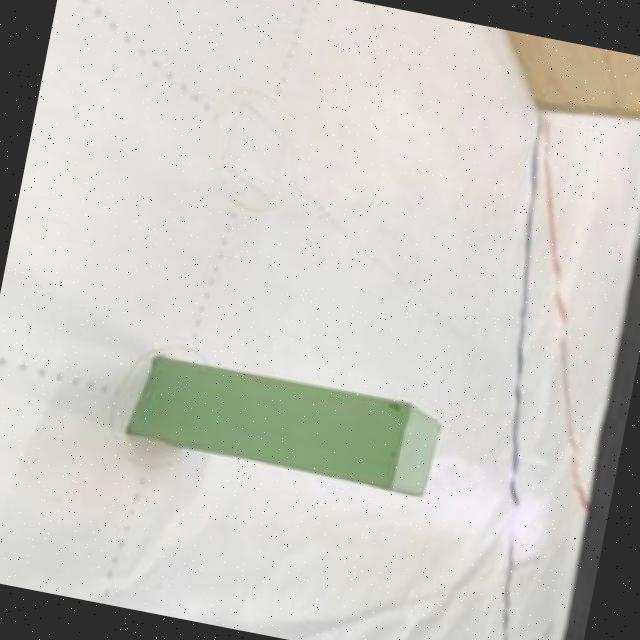greenbox: (125, 348, 448, 502)
